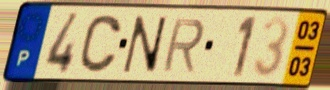1: (233, 14, 260, 80)
3: (251, 13, 292, 82)
4: (42, 10, 79, 76)
C: (76, 12, 125, 75)
N: (121, 14, 169, 76)
R: (159, 17, 208, 75)
